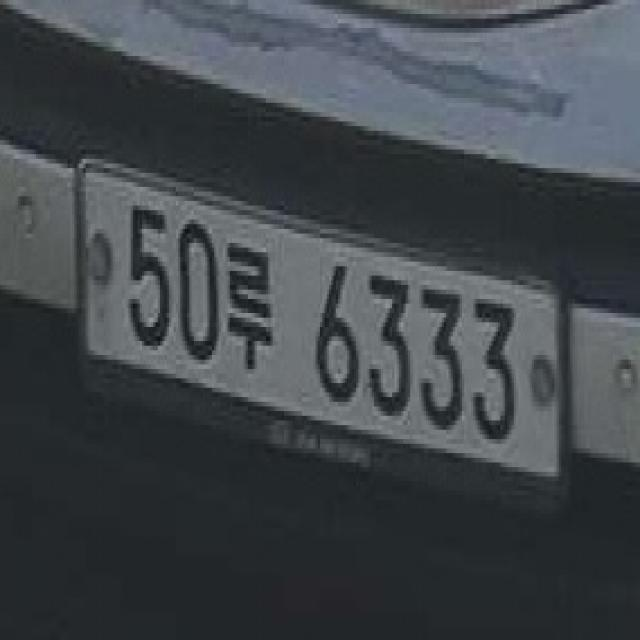0: (178, 222, 220, 364)
3: (363, 266, 414, 428), (418, 280, 465, 440), (469, 298, 517, 447)
5: (124, 209, 171, 357)
6: (304, 256, 360, 411)
license_plate: (72, 147, 571, 519)
lu: (223, 232, 276, 383)
